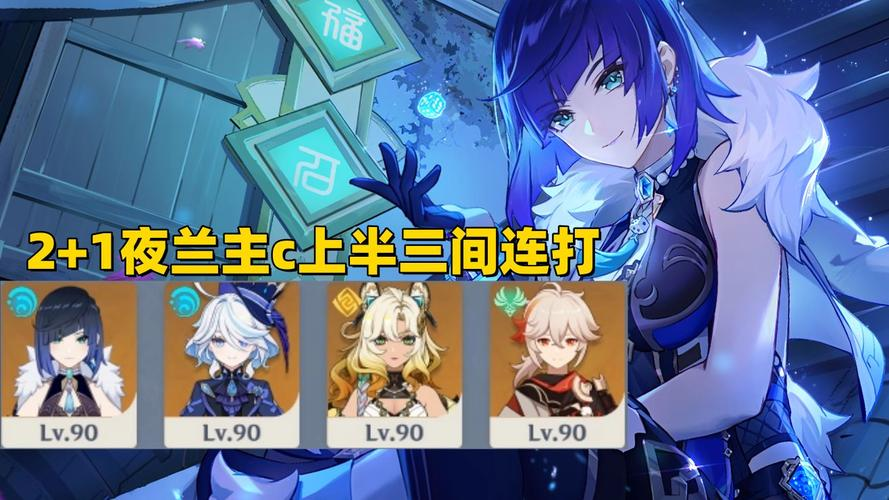夜兰: (345, 1, 841, 500), (1, 285, 128, 419)
